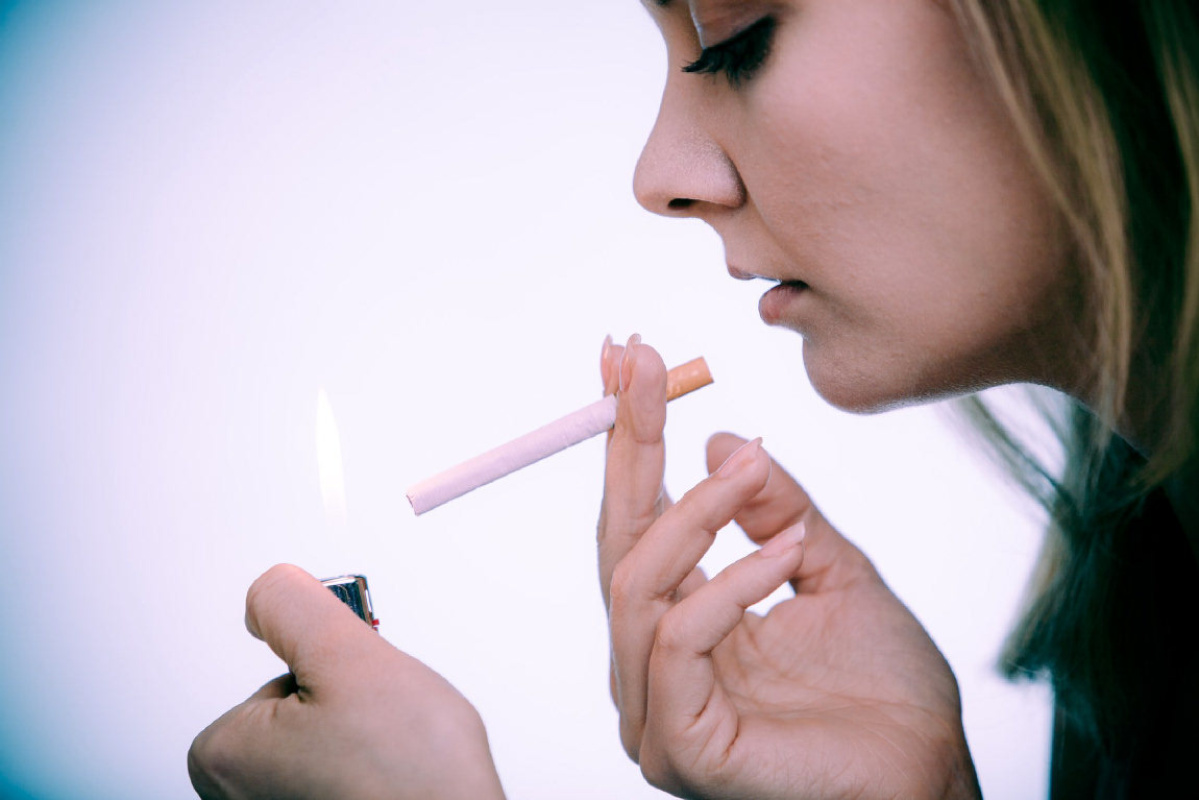cigarette: (408, 352, 750, 517)
